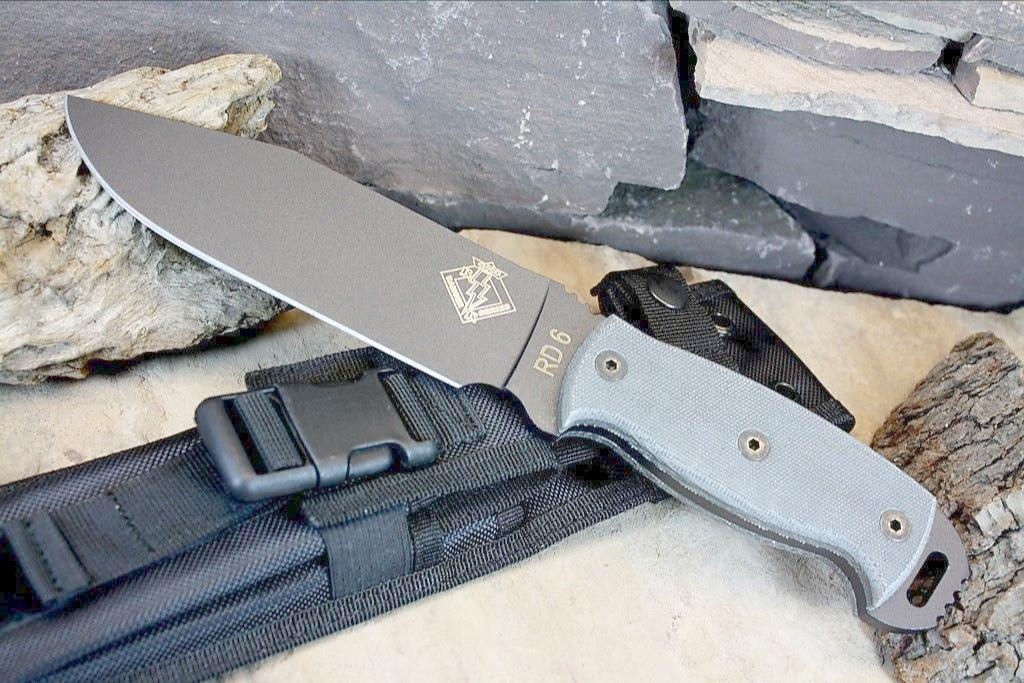melee: (60, 85, 972, 624)
